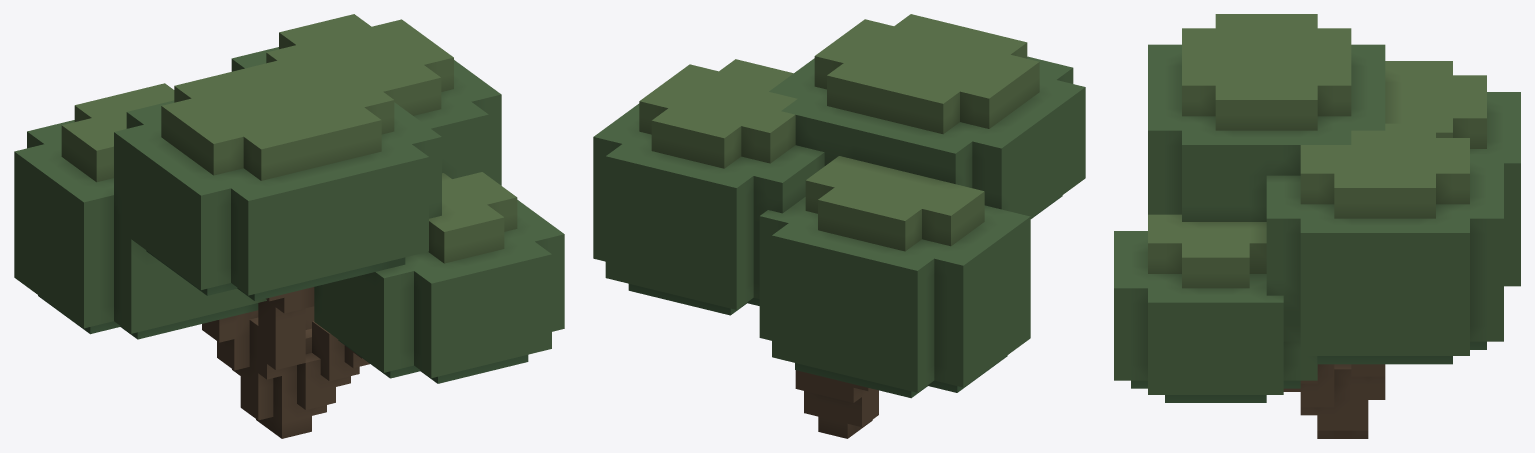
Rendered from blueberry_summer_picked.glb.
3 views of the same model, side by side, from view 1: azimuth 30°, elevation 25°; view 2: azimuth 150°, elevation 25°; view 3: azimuth 270°, elevation 25° (orthographic). The views are drawn at different scales.
Parts seen in each view (by area): view 1: VoxelVisual; view 2: VoxelVisual; view 3: VoxelVisual.
Boxes of the visible parts, <box> form: VoxelVisual: <box>14,14,564,438</box>; VoxelVisual: <box>593,14,1085,438</box>; VoxelVisual: <box>1114,14,1520,438</box>.
Size of what is drawn, in the model's own units: 1.62 by 1.44 by 1.5.
